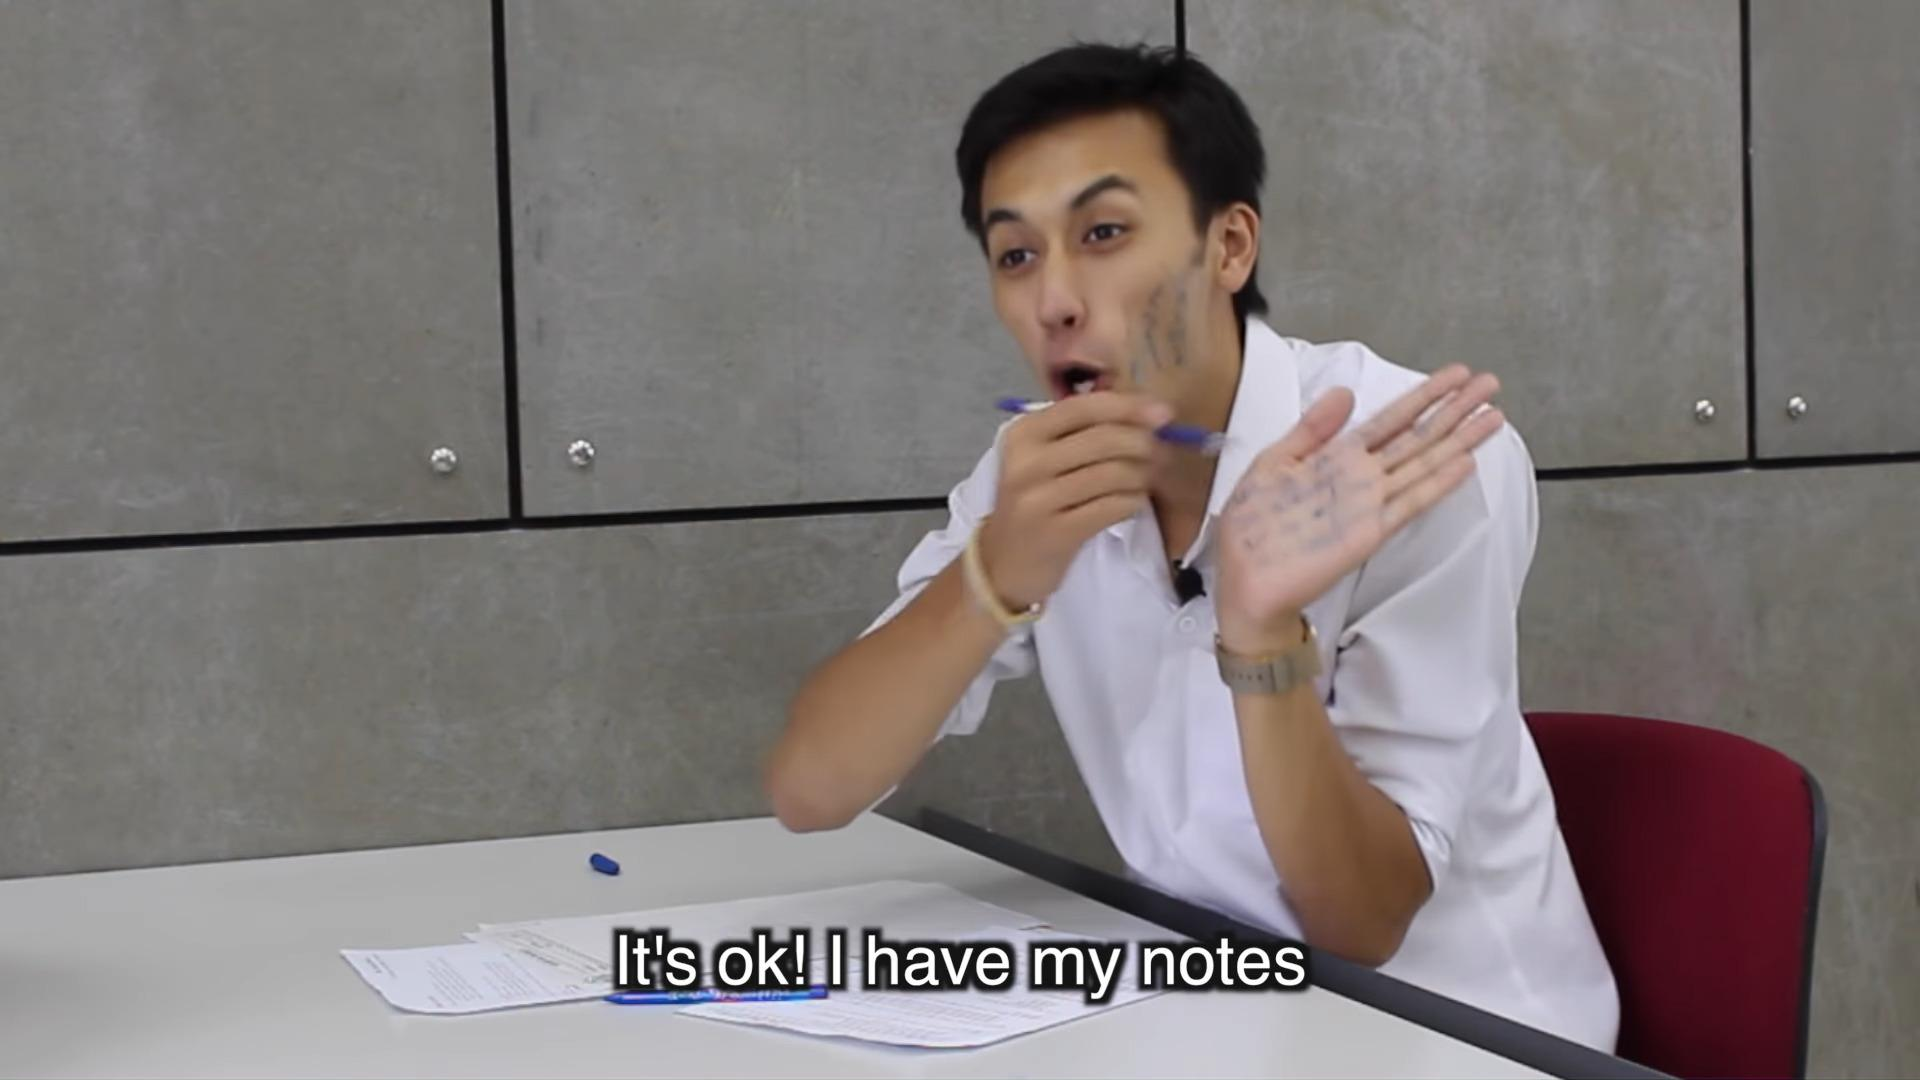cheating: (737, 25, 1571, 913)
